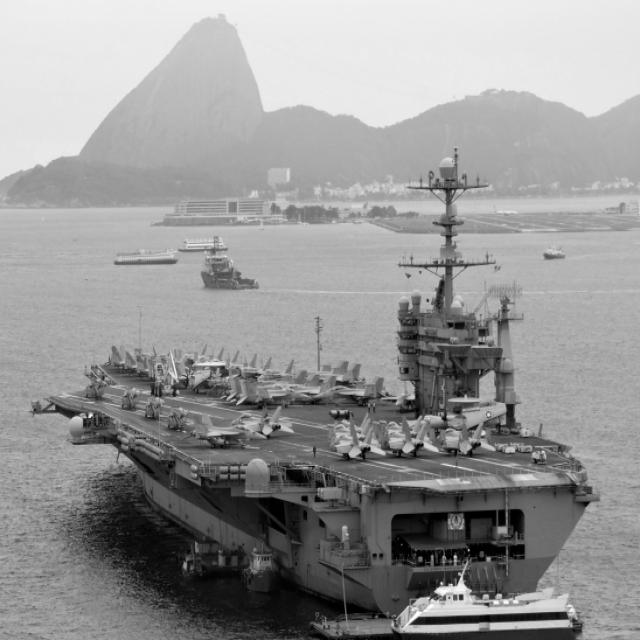Portanaves: (29, 147, 604, 625)
